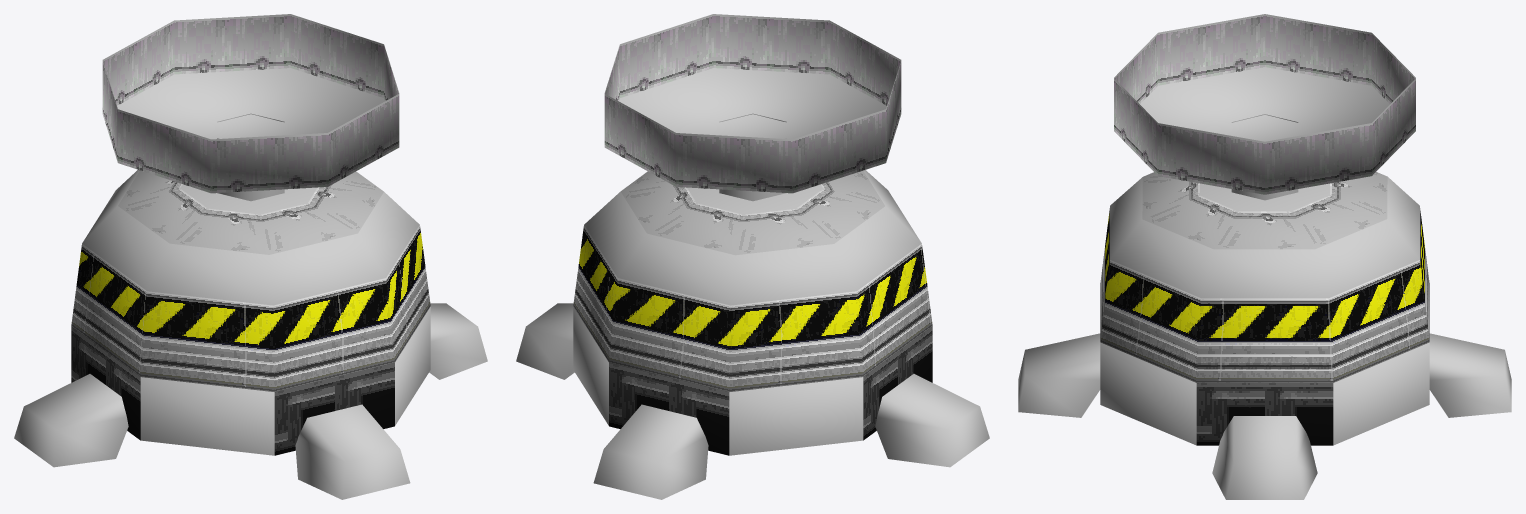
The model's file is CollisionBase.obj.
The picture shows the model from 3 angles, left to right: view 1: azimuth 30°, elevation 25°; view 2: azimuth 150°, elevation 25°; view 3: azimuth 270°, elevation 25°; orthographic projection.
Size of the model in its own units: 46.3 by 32.93 by 46.3.
